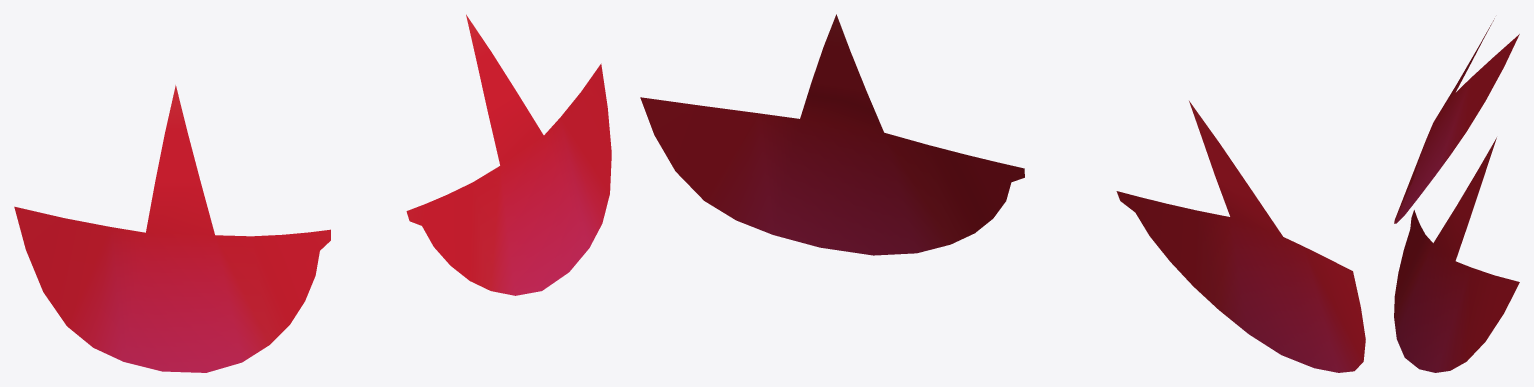
Rendered from S12_Reptile04_L2_Eye.glb.
3 views of the same model, side by side, from view 1: azimuth 30°, elevation 25°; view 2: azimuth 150°, elevation 25°; view 3: azimuth 270°, elevation 25° (orthographic). The views are drawn at different scales.
Visible parts, largest first — view 1: S12_Reptile04_L2_Eye__Eye_M__surface0__lod0; view 2: S12_Reptile04_L2_Eye__Eye_M__surface0__lod0; view 3: S12_Reptile04_L2_Eye__Eye_M__surface0__lod0.
Part boxes in pixels (<box>): S12_Reptile04_L2_Eye__Eye_M__surface0__lod0: <box>14,14,611,372</box>; S12_Reptile04_L2_Eye__Eye_M__surface0__lod0: <box>640,14,1365,372</box>; S12_Reptile04_L2_Eye__Eye_M__surface0__lod0: <box>1394,18,1519,372</box>.
Size of the model in its own units: 0.6449 by 0.2557 by 0.1382.
